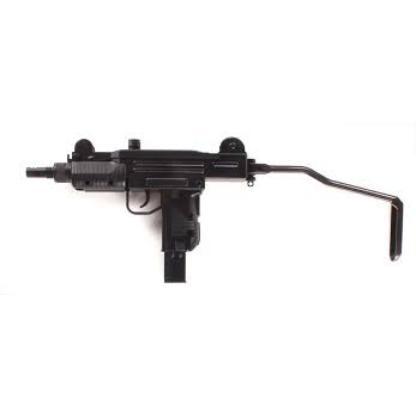gun: (31, 138, 257, 290)
